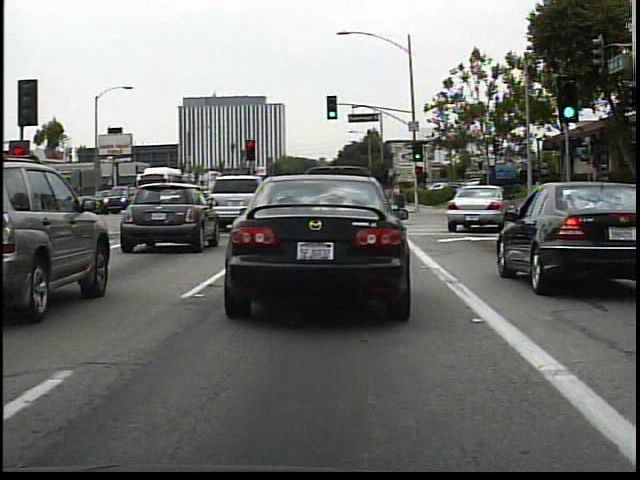person: (387, 178, 410, 214)
